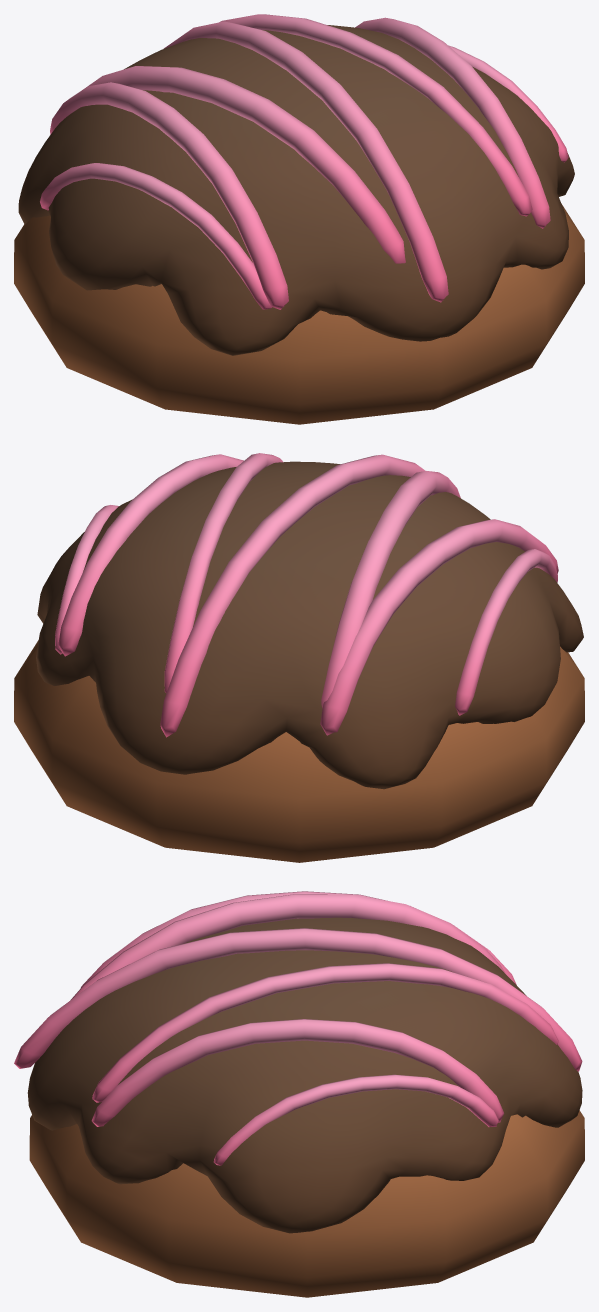
The model's file is candy_choco_24.fbx.
3 renders of one model, top to bottom at view 1: azimuth 30°, elevation 25°; view 2: azimuth 150°, elevation 25°; view 3: azimuth 270°, elevation 25°, orthographic. The views are drawn at different scales.
Visible parts, largest first — view 1: c_c_24; view 2: c_c_24; view 3: c_c_24.
Part boxes in pixels (x1,y1,x2,y2): c_c_24: (14, 14, 584, 424); c_c_24: (14, 453, 584, 862); c_c_24: (14, 891, 584, 1297).
Size of the model in its own units: 150 by 78.32 by 152.
